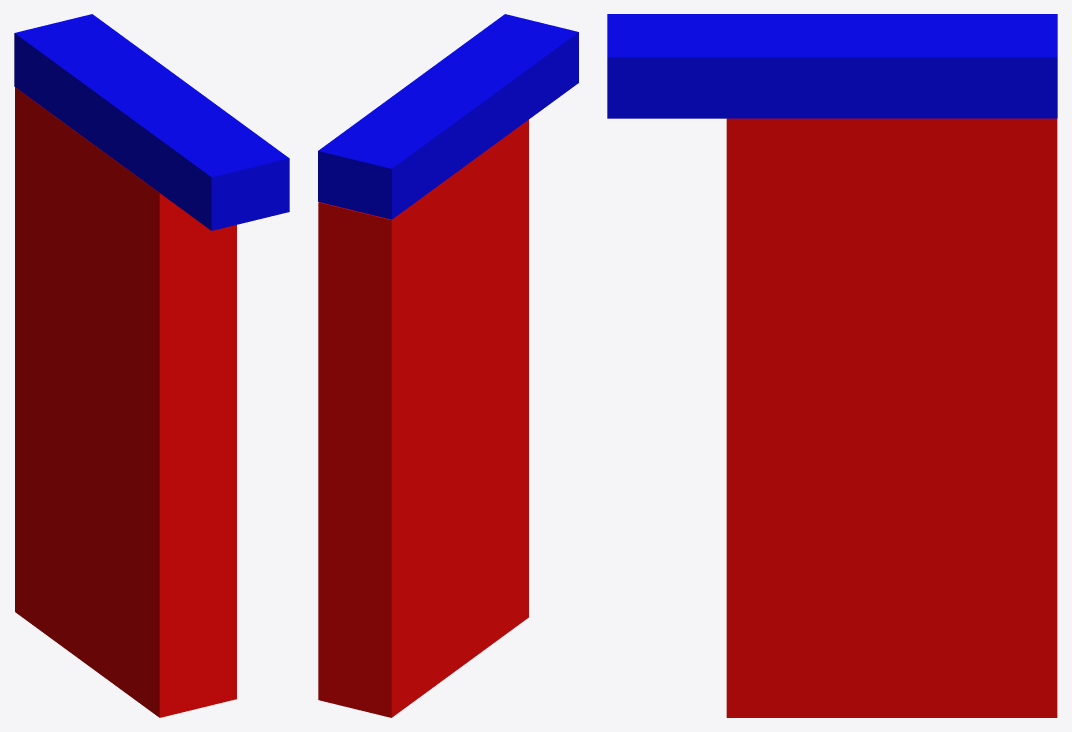
Rendered from montante-test.glb.
3 views of the same model, side by side, from view 1: azimuth 30°, elevation 25°; view 2: azimuth 150°, elevation 25°; view 3: azimuth 270°, elevation 25° (orthographic). The views are drawn at different scales.
Parts seen in each view (by area): view 1: parent, child; view 2: parent, child; view 3: parent, child.
Boxes of the visible parts, left/top/right/bottom form: parent: left=15, top=87, right=236, bottom=717; child: left=14, top=14, right=289, bottom=230; parent: left=318, top=120, right=528, bottom=717; child: left=318, top=14, right=578, bottom=219; parent: left=726, top=118, right=1057, bottom=717; child: left=607, top=14, right=1057, bottom=118.
Bounding box in the file's own units: 0.2317 × 1.65 × 1.02.
